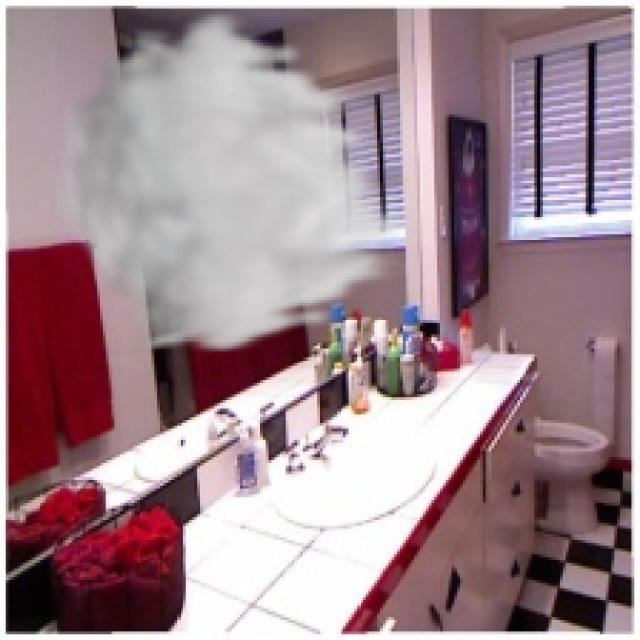smoke: (46, 6, 423, 357)
